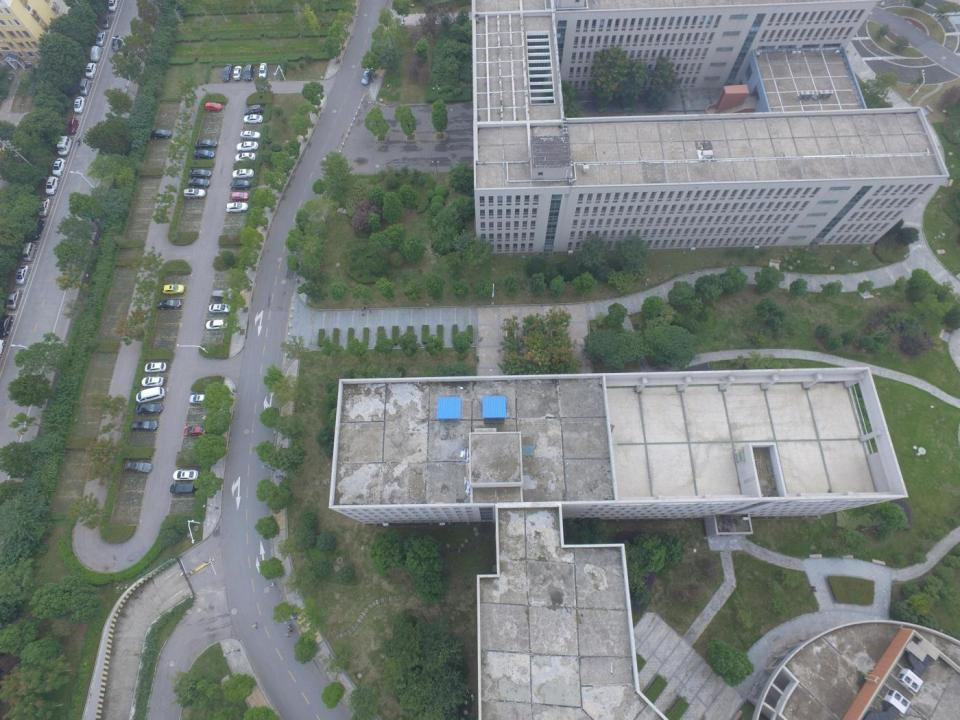car: (123, 460, 153, 473), (28, 218, 45, 240), (172, 468, 199, 481), (135, 403, 164, 415), (44, 175, 60, 195), (7, 289, 22, 310), (169, 483, 195, 495), (0, 314, 14, 336), (15, 264, 30, 284), (130, 420, 157, 431), (38, 198, 52, 218), (184, 425, 207, 437), (162, 283, 185, 295), (52, 158, 67, 176), (189, 393, 213, 404), (226, 201, 248, 213), (183, 188, 206, 199), (209, 302, 231, 313), (232, 168, 254, 179), (236, 141, 258, 152), (239, 129, 261, 140), (156, 300, 182, 309), (141, 376, 164, 386), (144, 362, 167, 372), (205, 319, 228, 329), (195, 139, 218, 149), (67, 117, 80, 134), (361, 68, 373, 86), (230, 180, 251, 190), (235, 152, 256, 162), (95, 30, 108, 46), (73, 97, 86, 113), (187, 178, 210, 187), (85, 62, 97, 79), (193, 150, 215, 159), (244, 104, 262, 115), (150, 130, 172, 139), (244, 64, 255, 82), (90, 46, 102, 62), (244, 114, 262, 124), (222, 64, 232, 82), (258, 62, 268, 80), (189, 169, 211, 177), (111, 36, 122, 52), (232, 191, 249, 201), (204, 102, 222, 111), (233, 65, 243, 80), (107, 0, 119, 12), (102, 15, 112, 28)
van: (135, 386, 165, 403), (56, 135, 73, 156), (22, 242, 37, 262), (212, 289, 234, 301), (79, 78, 91, 95)
